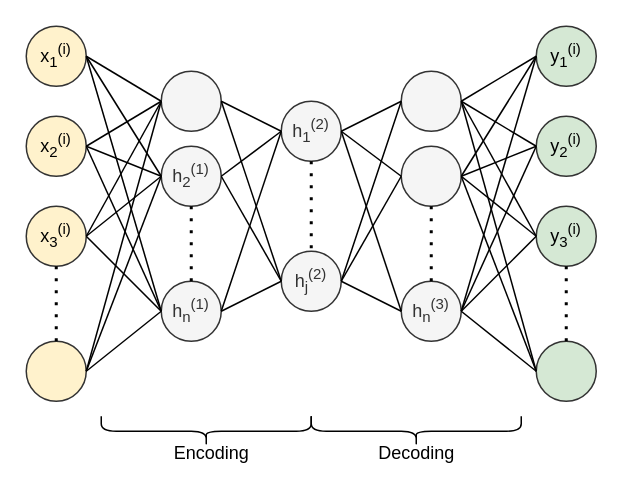
Some shapes in this 623 by 495 pixel diagram are drawn without their labels. Each missing label, with the centre of its shape:
h 1 (1): point 190,100
h 1 (3): point 430,100
h 2 (3): point 430,175
x k (i): point 55,370
y k (i): point 565,370
